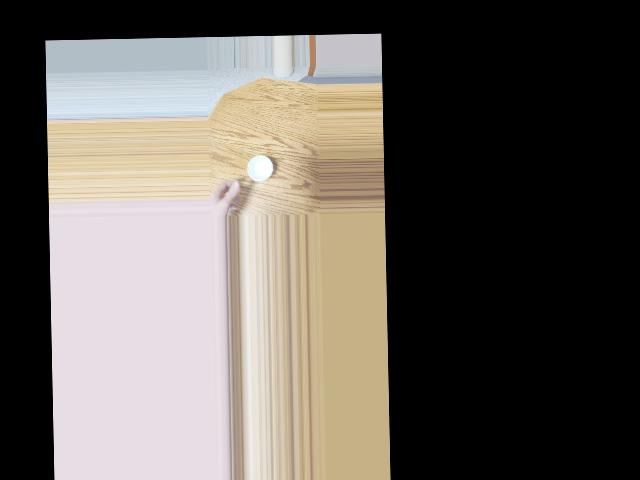cotage: (244, 155, 272, 185)
